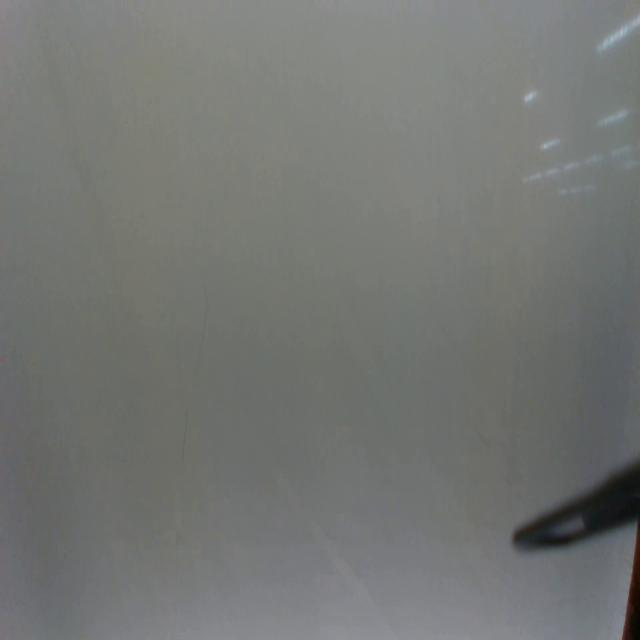crease: (178, 407, 190, 477)
